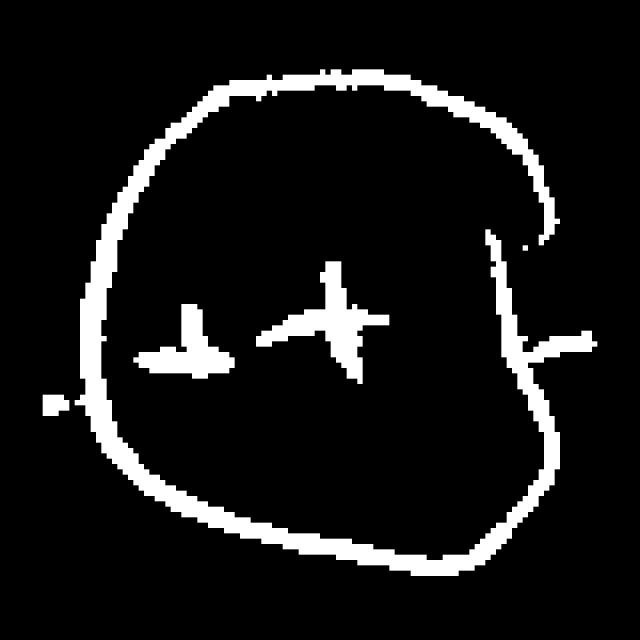voltage_source: (69, 61, 573, 578)
